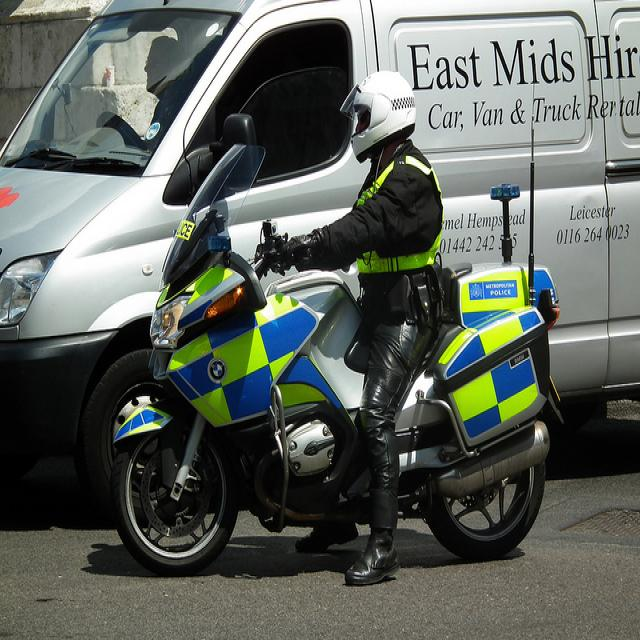motor: (109, 75, 568, 582)
